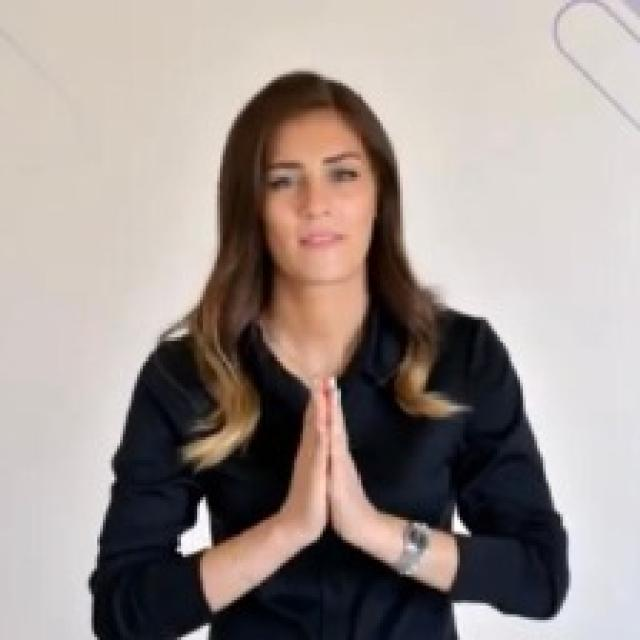sorry: (282, 373, 371, 548)
